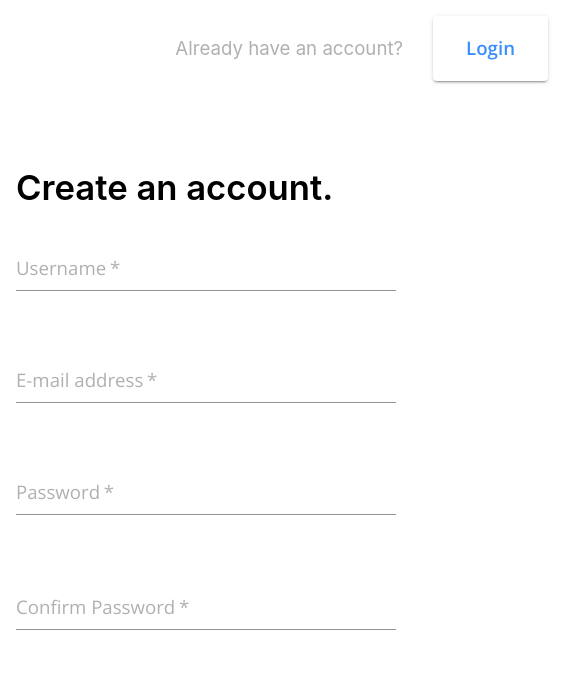
Test: Auth Screens › Loads login page
The width and height of the screenshot is (566, 673).
Click the button "Login" at [491, 49], box [433,16,548,81]
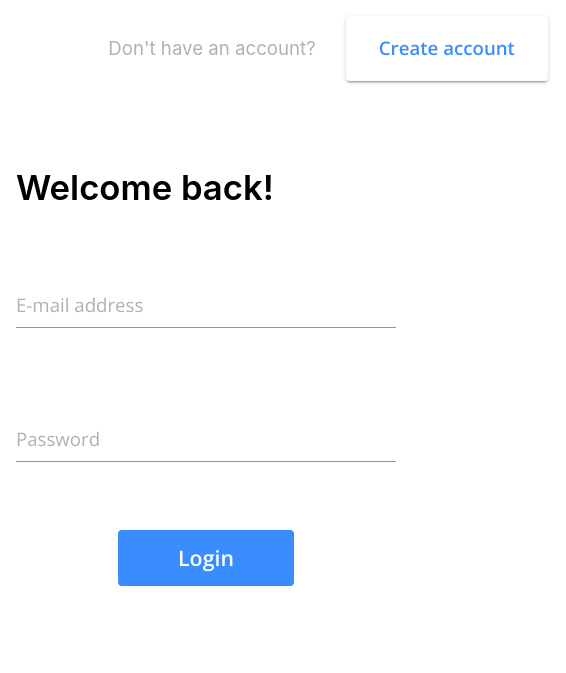
Check: the text "Welcome back" is shown, box [16,166,274,208]
Check: the button "Login" is shown, box [118,530,294,586]
